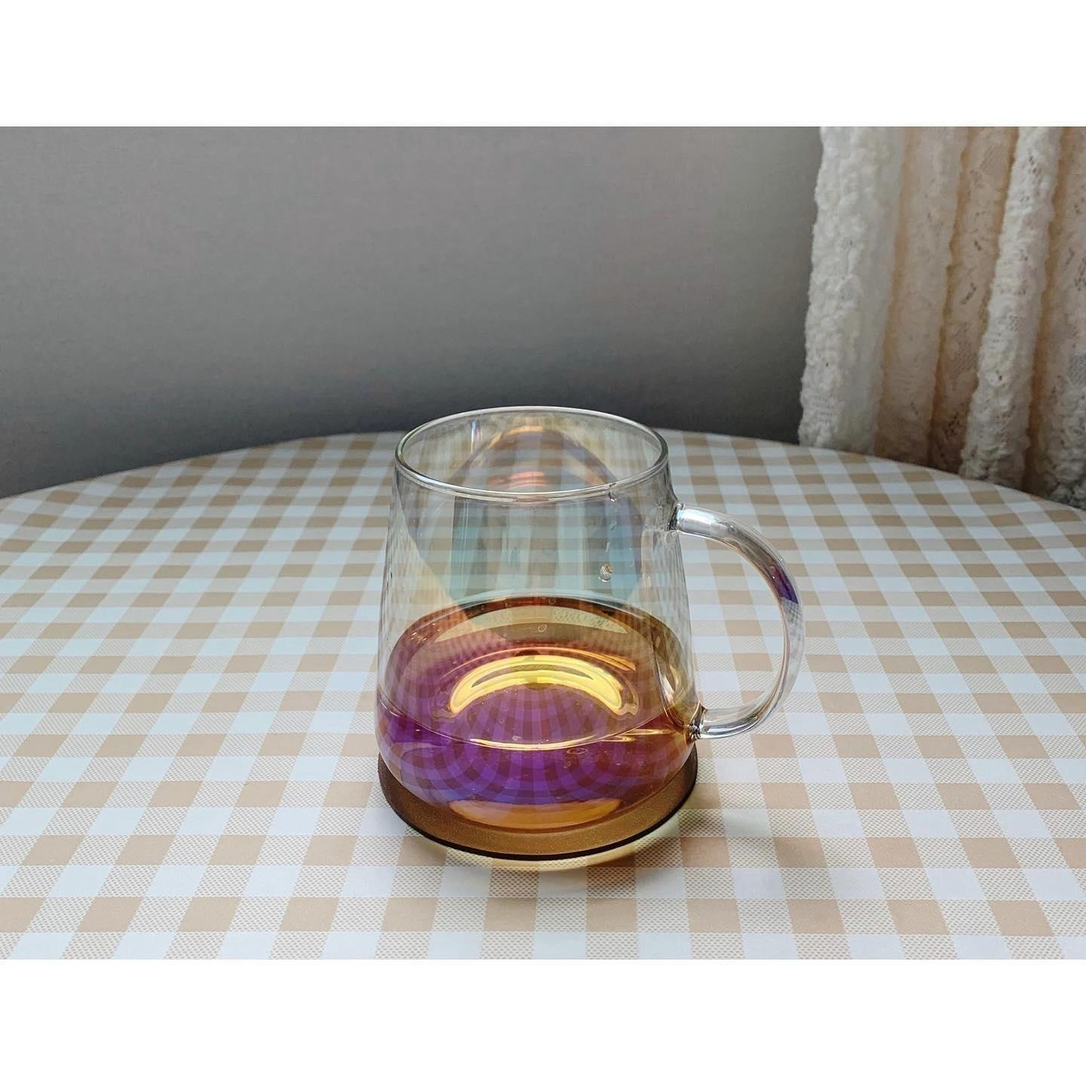glass-mug: (373, 397, 814, 861)
